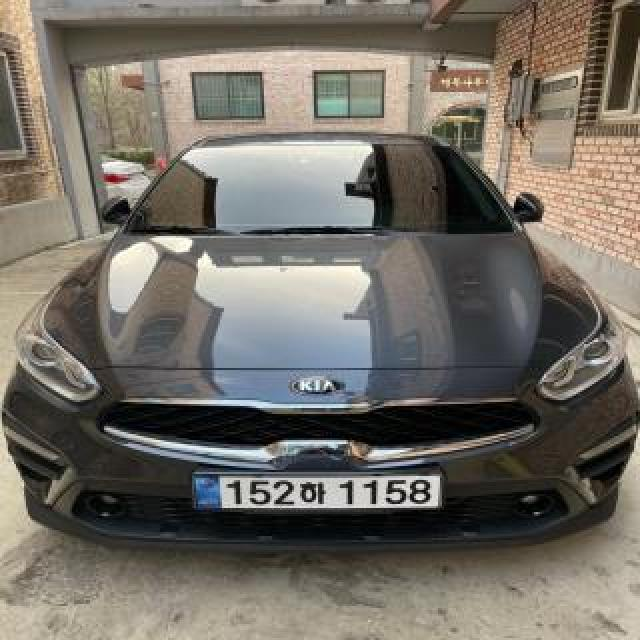car: (0, 119, 640, 549)
illegal_plate: (192, 466, 445, 525)
